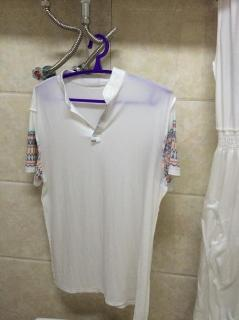short sleeve top: (24, 67, 181, 319)
